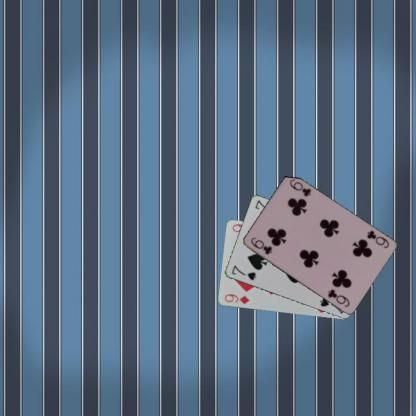6c: (246, 234, 274, 256), (363, 228, 390, 250)
7s: (228, 262, 258, 282)
9d: (221, 291, 250, 306)
